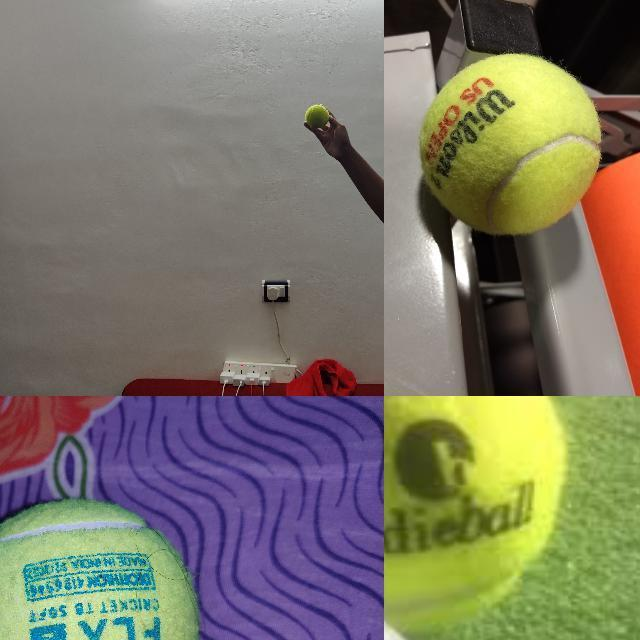tennis-ball: (384, 396, 571, 588), (417, 51, 604, 238), (0, 497, 200, 639), (305, 104, 330, 128)
